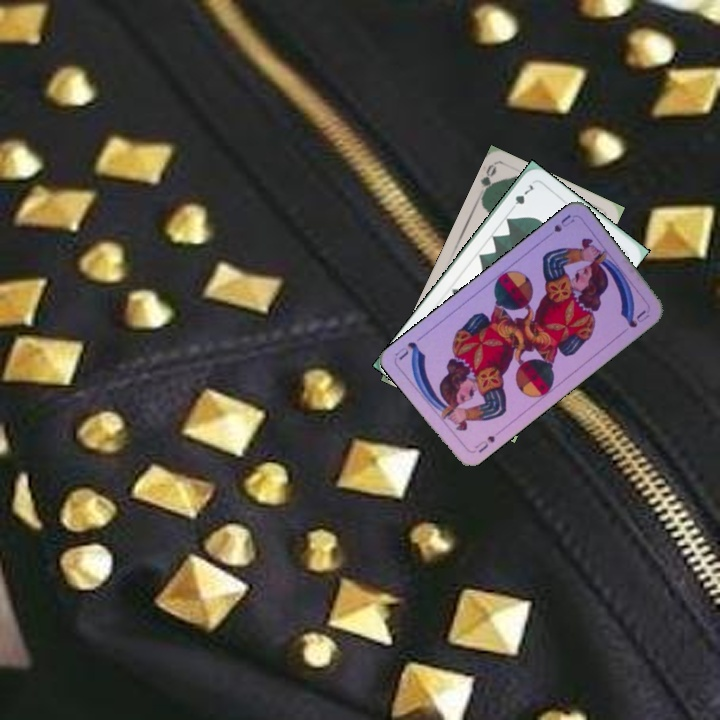G7: (506, 180, 536, 214)
GO: (477, 161, 499, 201)
SU: (540, 210, 577, 242), (469, 431, 498, 455)
